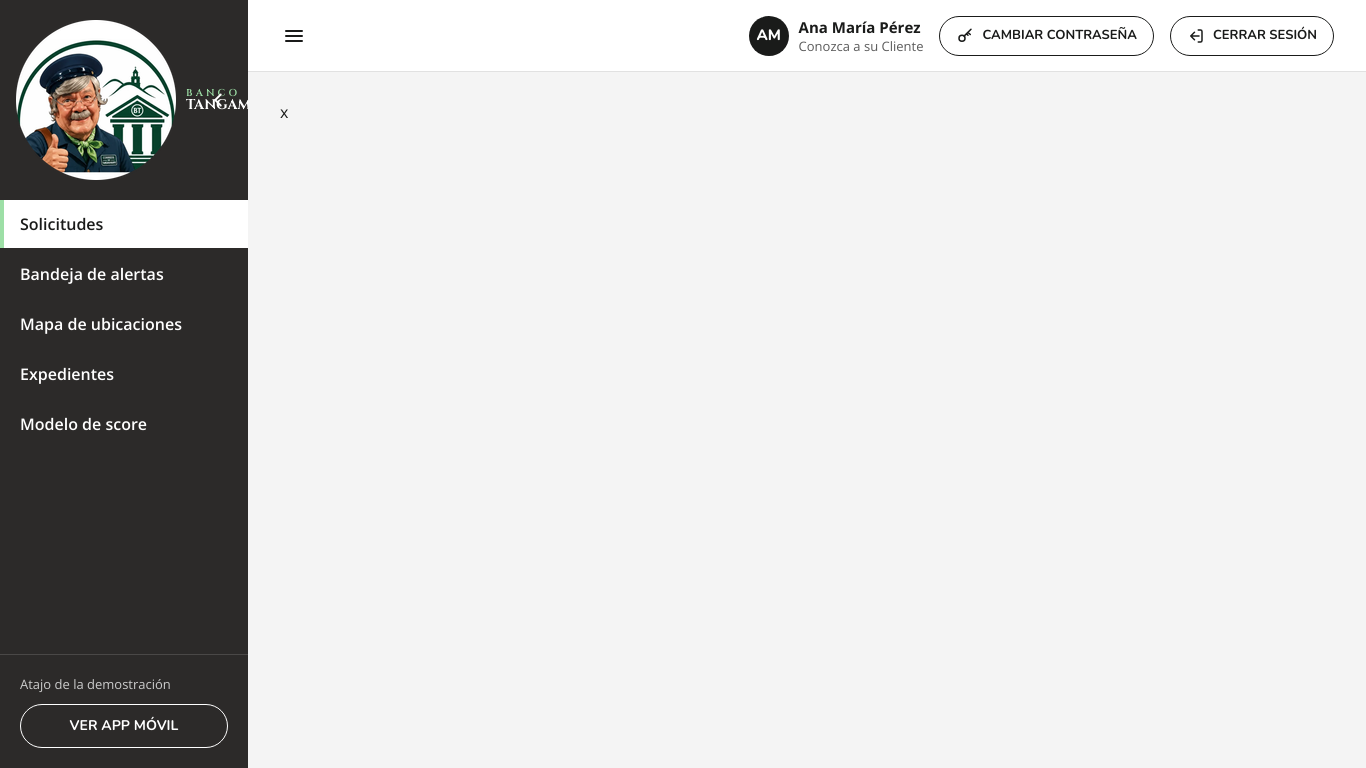
Test: Shell › Cambiar contraseña abre y cierra el diálogo
This screenshot has width=1366, height=768.
Click the button "Cambiar contraseña".
click(1047, 36)  # box [939, 16, 1154, 56]
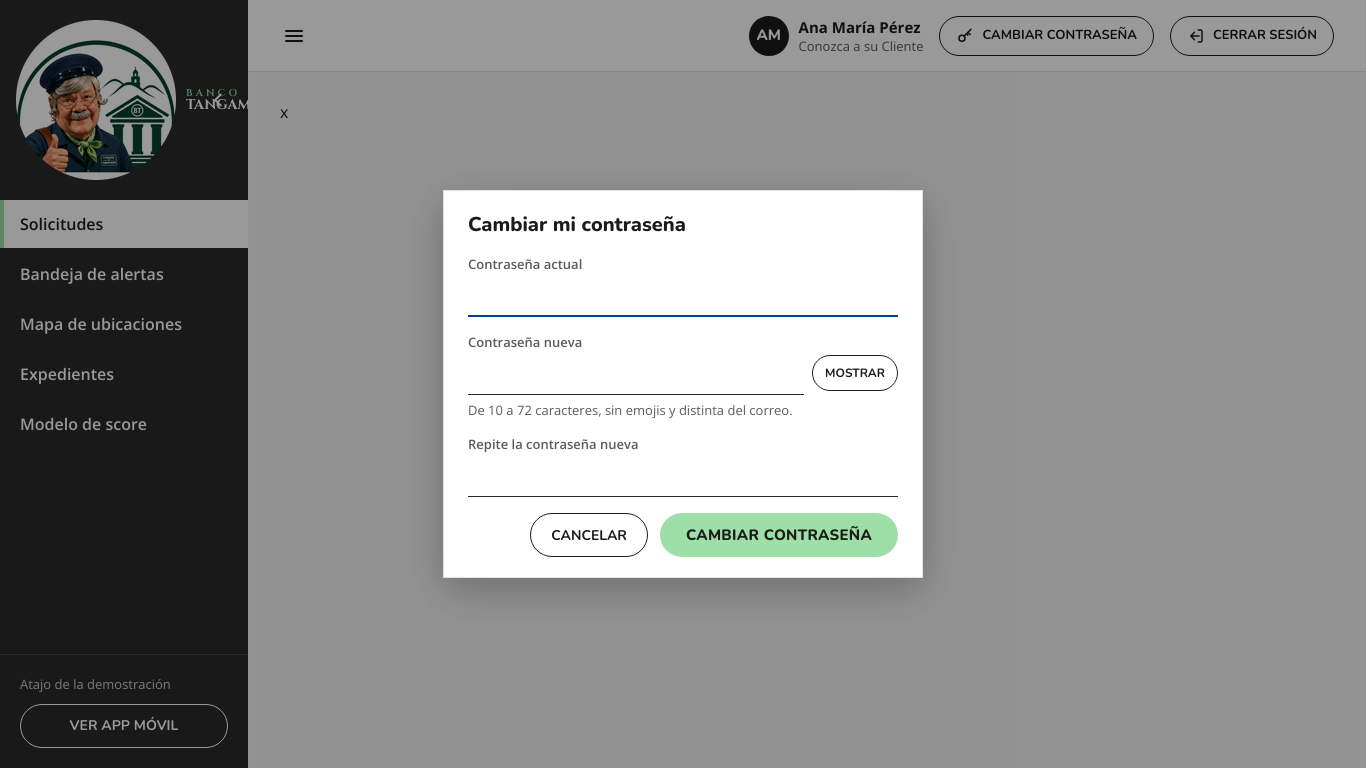
Check: the dialog "Cambiar mi contraseña" is shown, box [443, 190, 923, 578]
Click the button "Cancelar".
click(589, 535)  # box [530, 513, 648, 557]
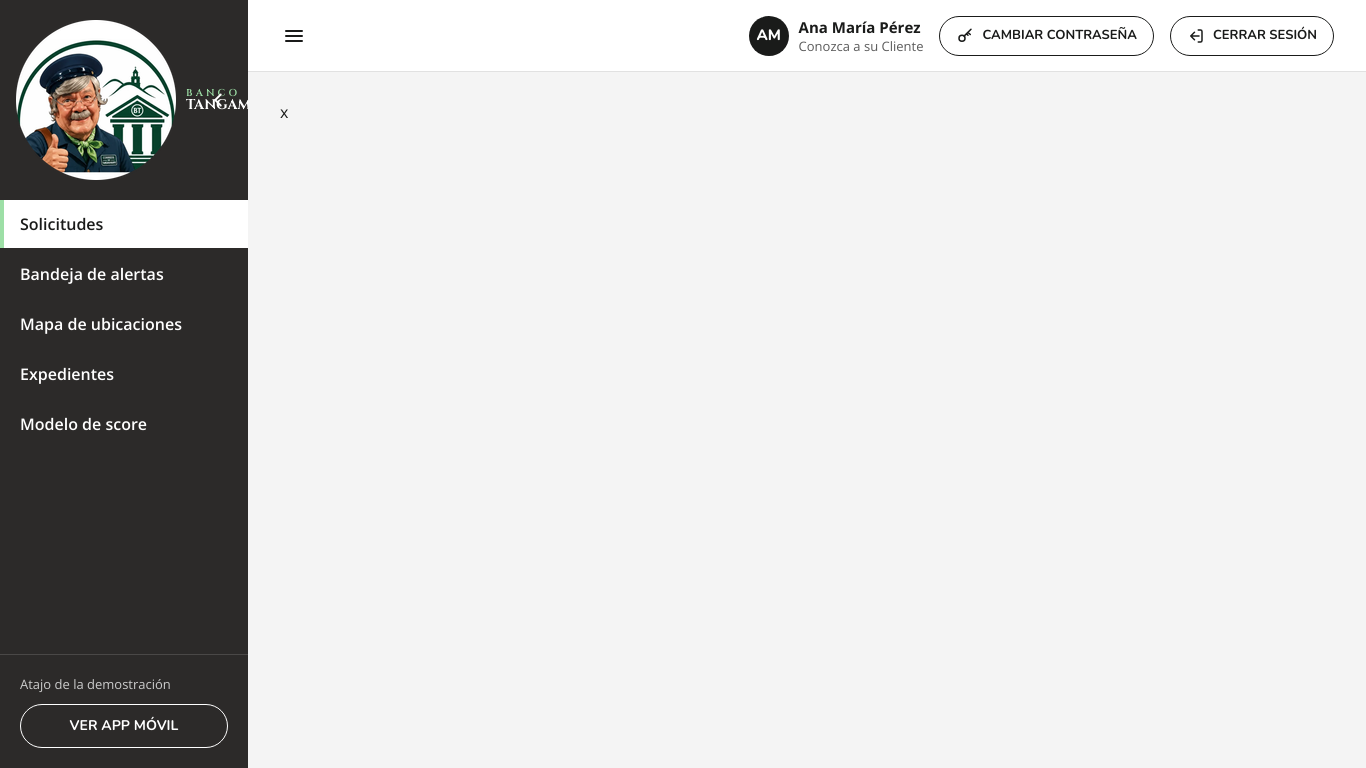
Check: the dialog is gone
